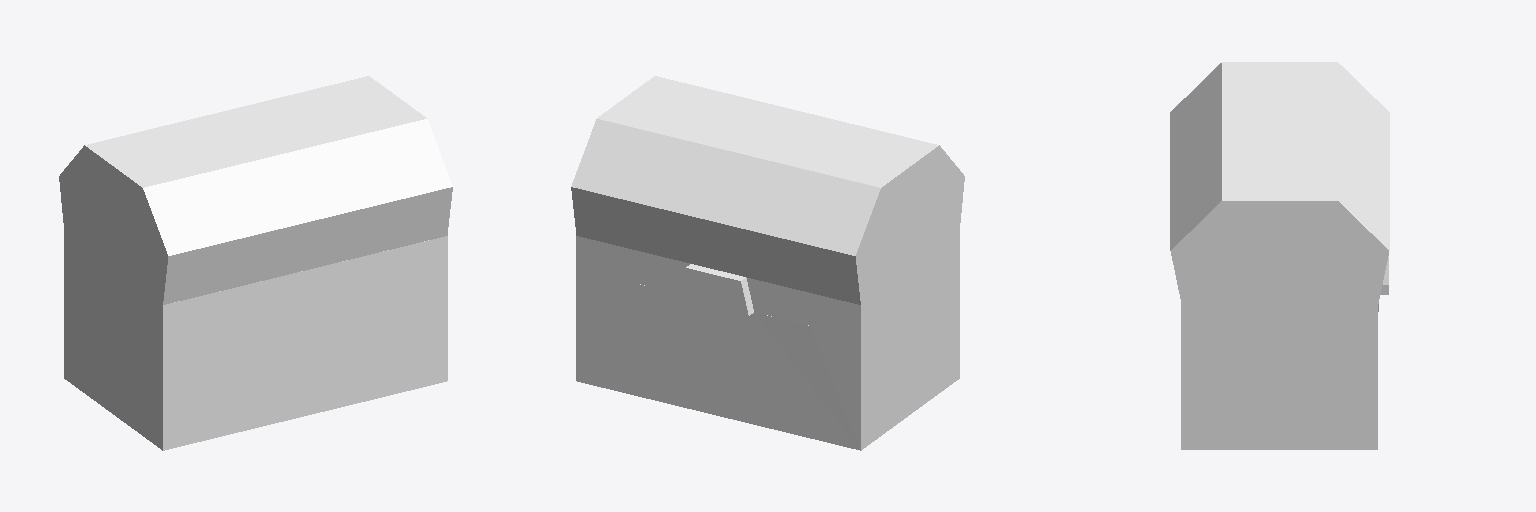
3 views of the same model, side by side, from view 1: azimuth 30°, elevation 25°; view 2: azimuth 150°, elevation 25°; view 3: azimuth 270°, elevation 25° (orthographic).
Parts seen in each view (by area): view 1: body; view 2: body; view 3: body.
Part boxes in pixels (x1,y1,x2,y2): body: (59, 76, 452, 450); body: (571, 76, 964, 450); body: (1170, 62, 1389, 449).
Bounding box in the file's own units: 0.9 × 0.75 × 0.5998.